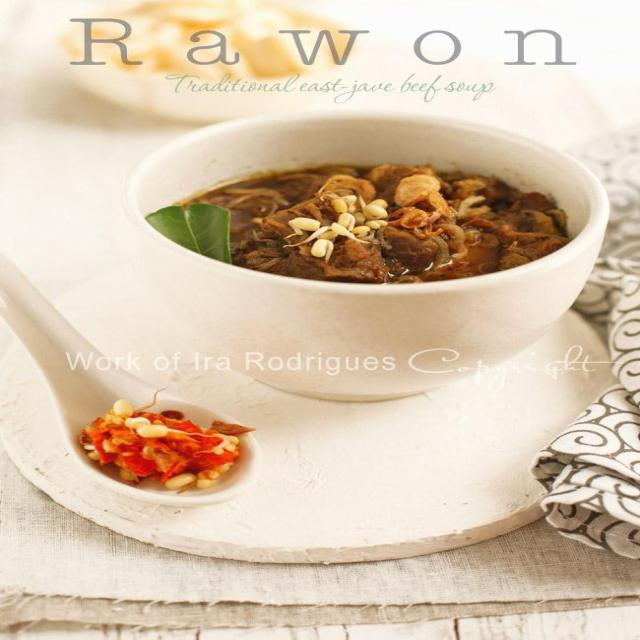Rawon: (149, 120, 556, 300)
